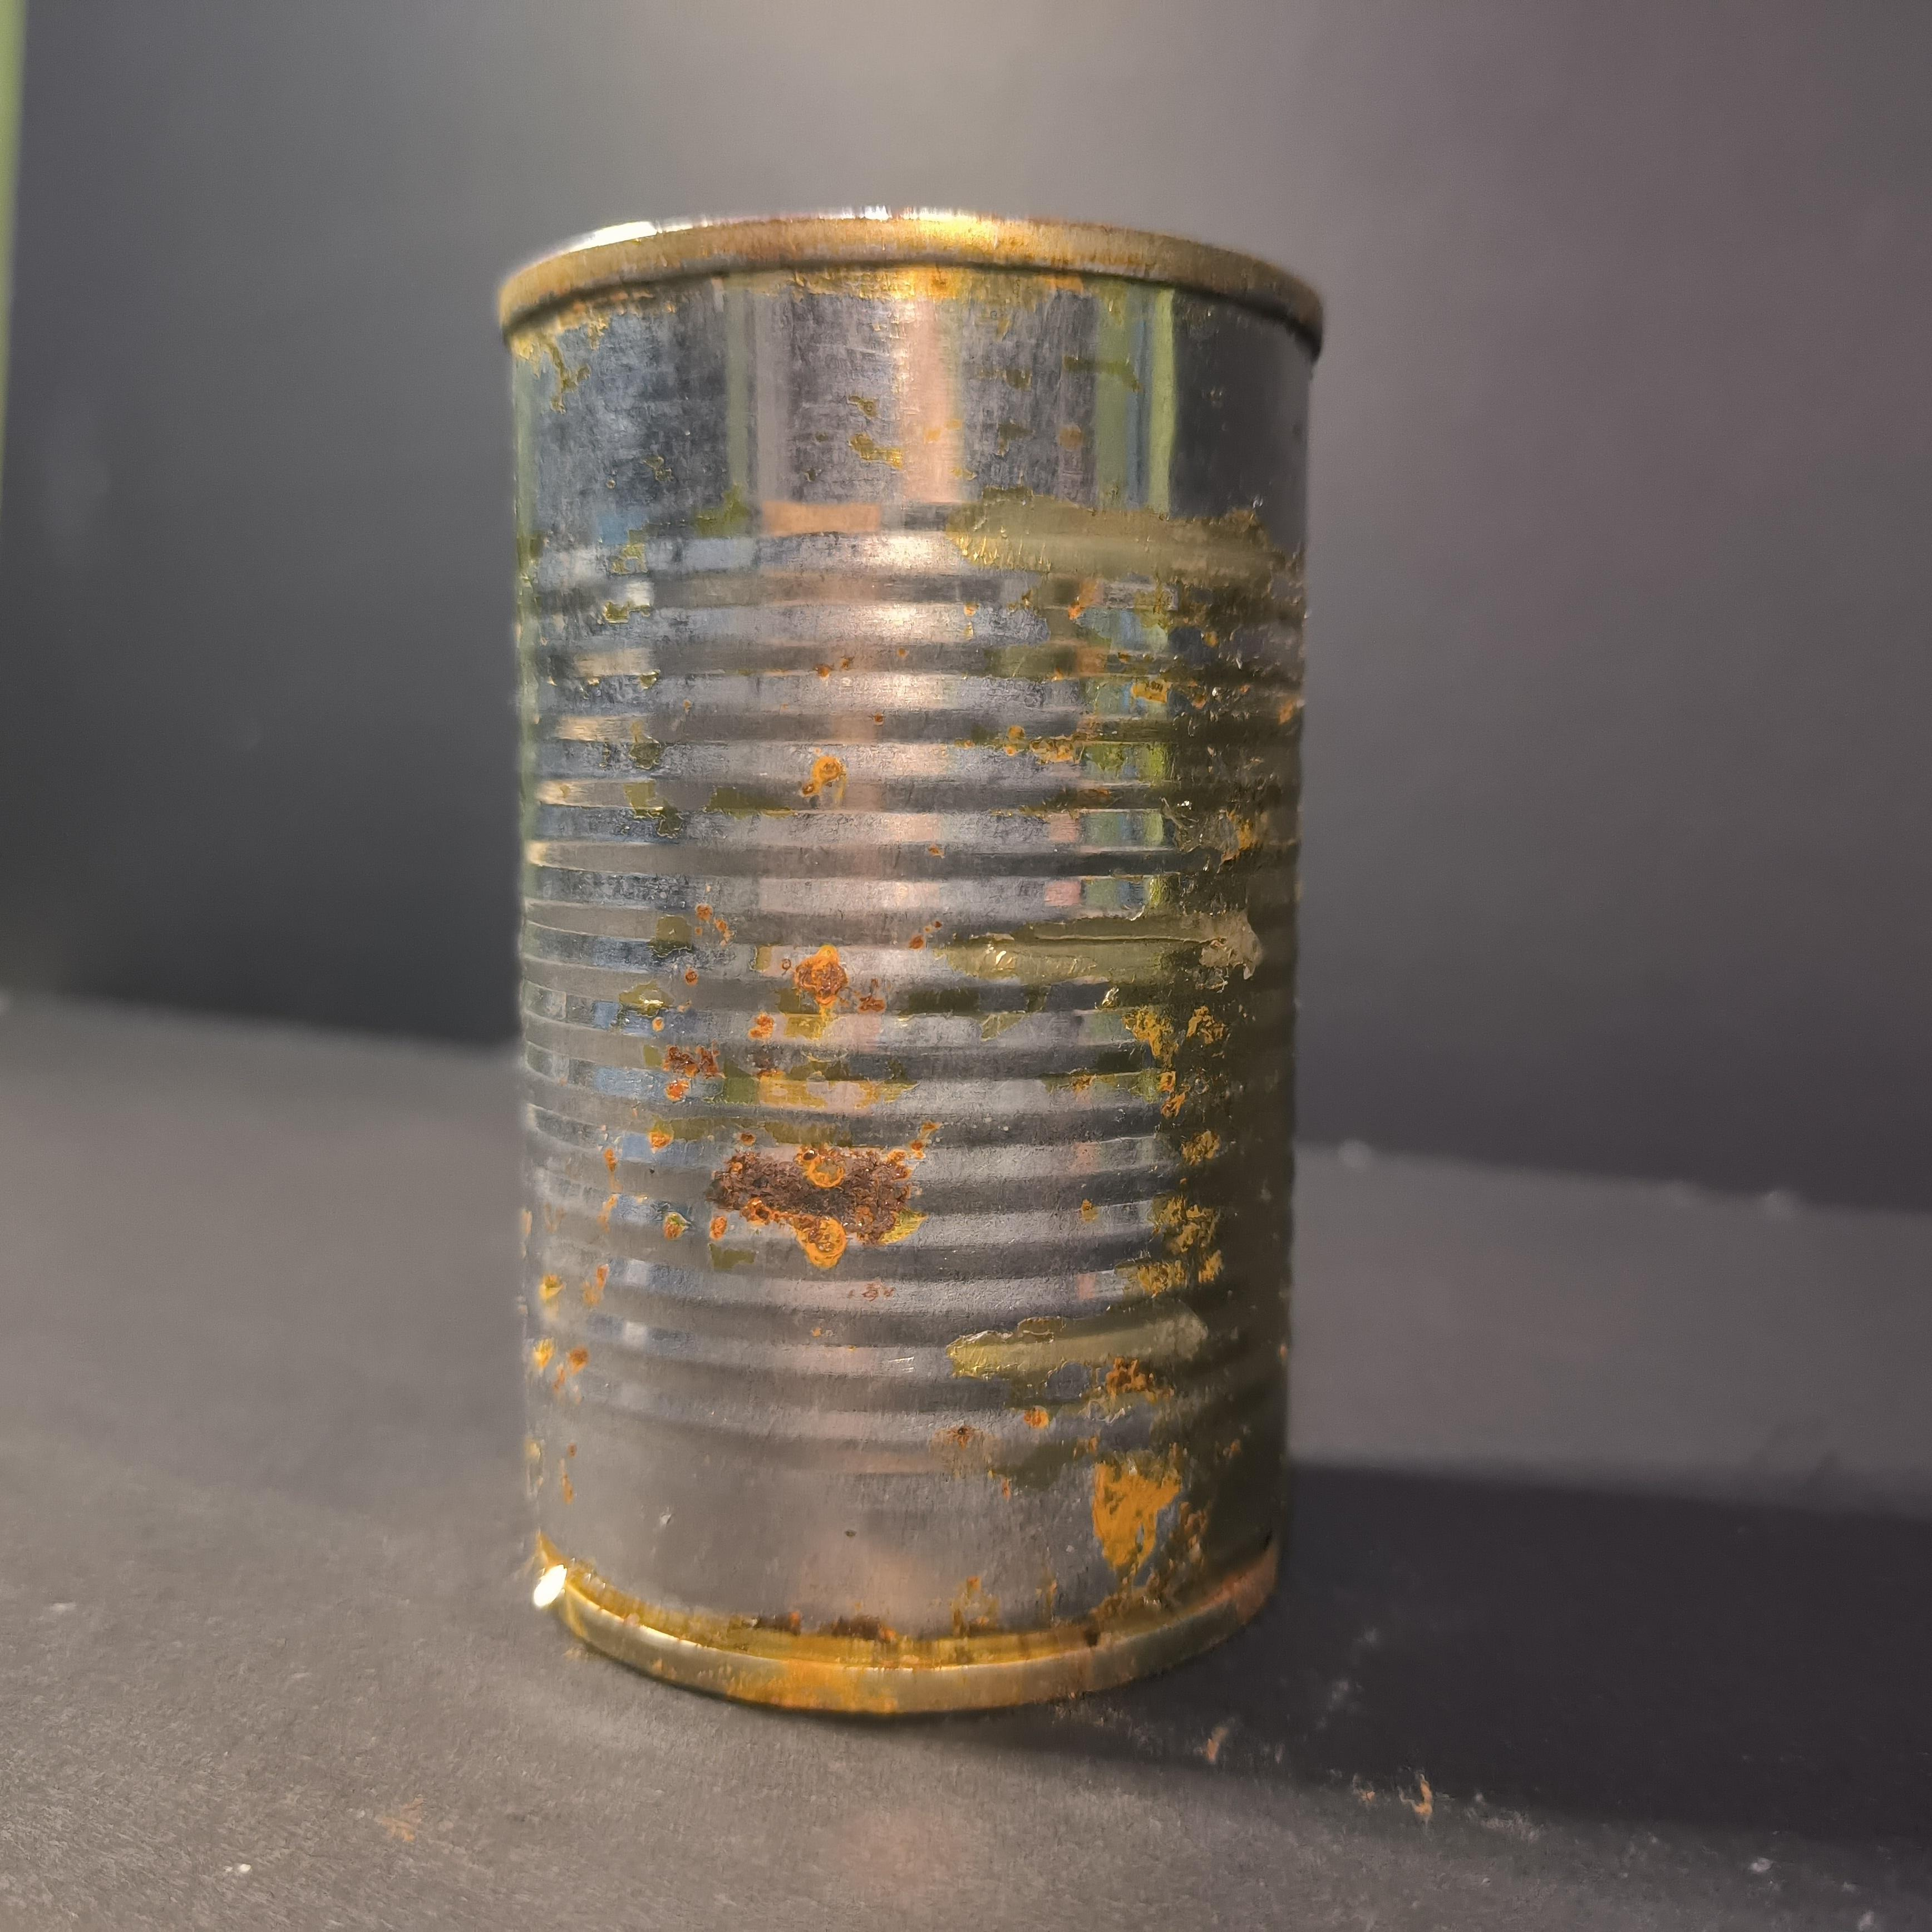Rusted: (465, 203, 1346, 1721)
